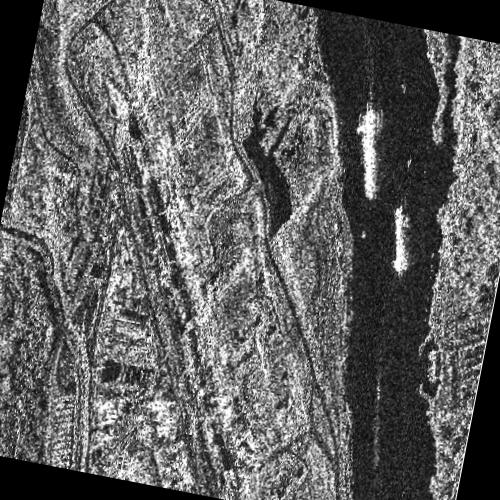ship: (356, 100, 384, 202), (392, 205, 410, 276)
